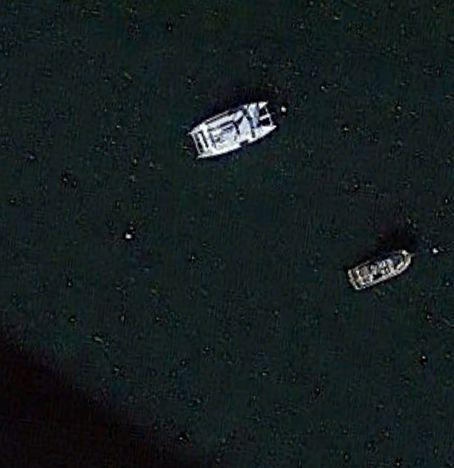Boat: (183, 94, 294, 166), (342, 241, 424, 296)
